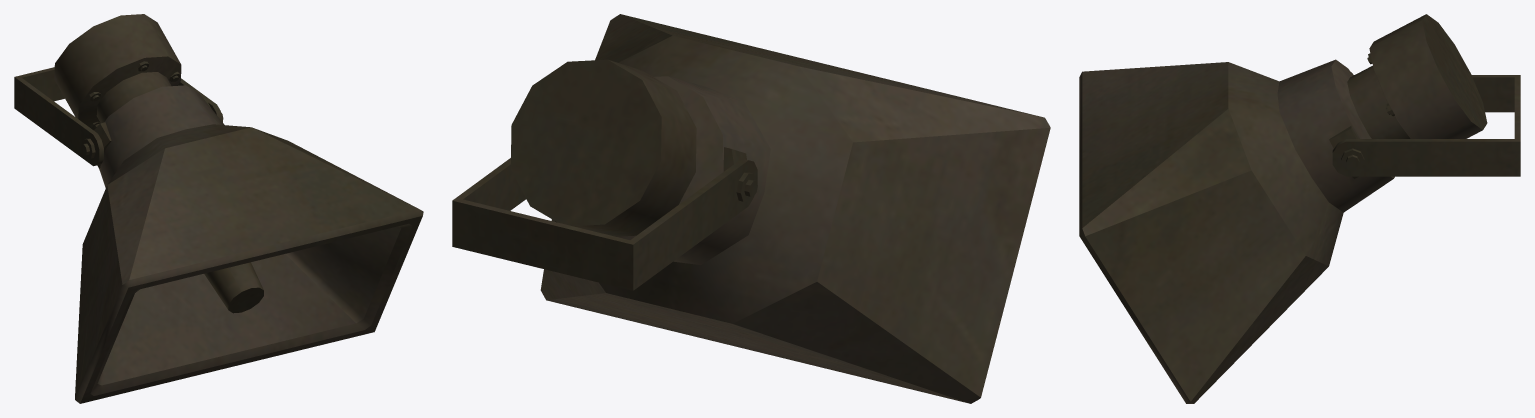
The model's file is speaker_mx_1.fbx.
The picture shows the model from 3 angles, left to right: view 1: azimuth 30°, elevation 25°; view 2: azimuth 150°, elevation 25°; view 3: azimuth 270°, elevation 25°; orthographic projection. The views are drawn at different scales.
Visible parts, largest first — view 1: speaker_mx_1; view 2: speaker_mx_1; view 3: speaker_mx_1.
Boxes of the visible parts, x1,y1,x2,y2 form: speaker_mx_1: [14, 14, 423, 403]; speaker_mx_1: [452, 14, 1050, 403]; speaker_mx_1: [1079, 14, 1520, 403].
Size of the model in its own units: 0.4947 by 0.5677 by 0.4325.
